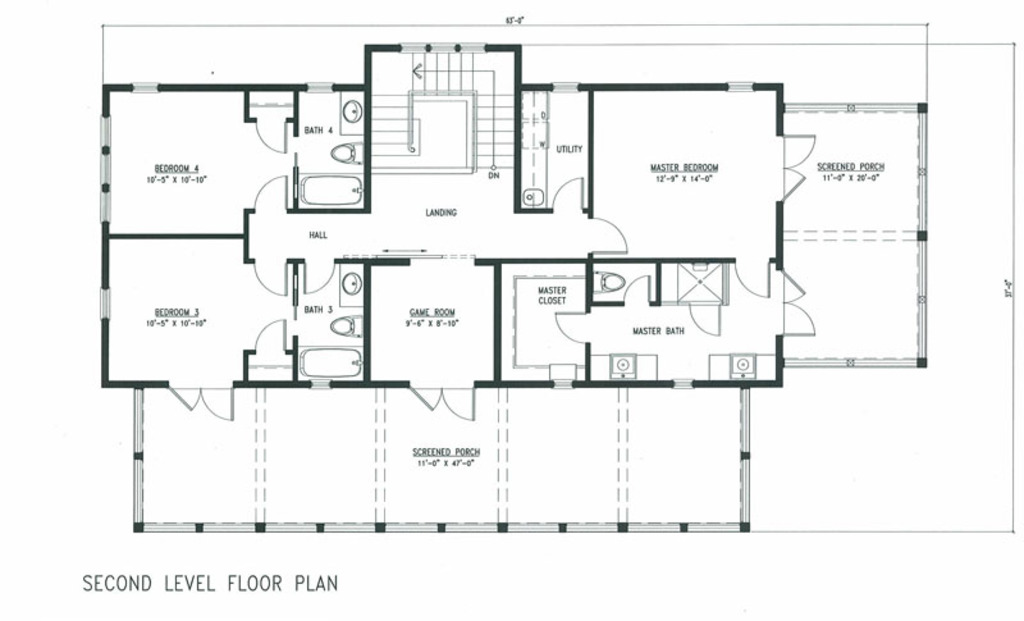door: (408, 382, 480, 425), (778, 265, 819, 338), (168, 382, 237, 425), (777, 132, 814, 197), (728, 253, 773, 300), (591, 213, 631, 259), (299, 255, 337, 296), (548, 175, 588, 213), (251, 174, 293, 210), (250, 262, 291, 298), (249, 317, 287, 355), (550, 306, 588, 344), (251, 117, 290, 153), (689, 300, 723, 336), (622, 274, 656, 308)
large_sink: (327, 137, 370, 170), (323, 311, 367, 342), (593, 267, 626, 297)
small_sink: (335, 261, 369, 315), (337, 89, 365, 133)
stairs: (363, 49, 523, 181)
tub: (295, 172, 366, 213), (297, 343, 369, 381)
windows: (97, 113, 114, 227), (98, 284, 112, 327), (129, 78, 159, 97), (722, 80, 753, 94)
